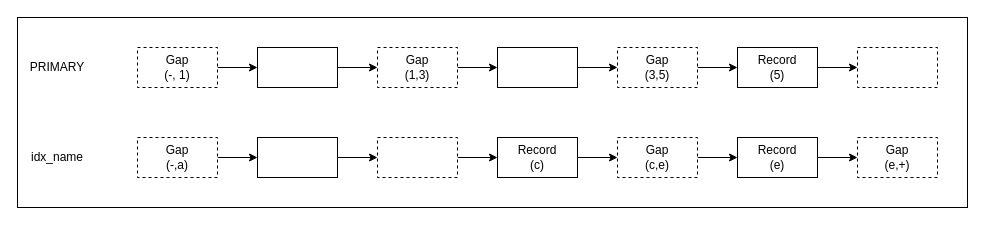
This 985x225 diagram has some shape labels left out. The centre of each missing label's shape, as x and y in pixels:
Gap (5,+): [897,67]
Gap (a,c): [417,157]
Record (1): [297,67]
Record (3): [537,67]
Record (a): [297,157]
